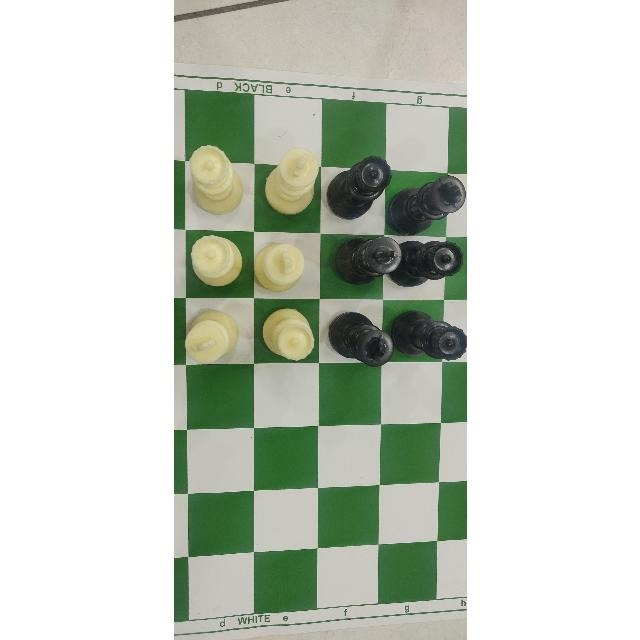black-king: (394, 170, 466, 232), (326, 307, 393, 369), (329, 231, 401, 288)
black-queen: (325, 152, 392, 218), (391, 309, 464, 363), (394, 239, 462, 295)
white-king: (264, 144, 321, 220), (179, 311, 239, 374), (252, 239, 307, 294)
white-queen: (184, 140, 246, 214), (260, 305, 316, 365), (184, 234, 246, 286), (260, 308, 316, 361)
